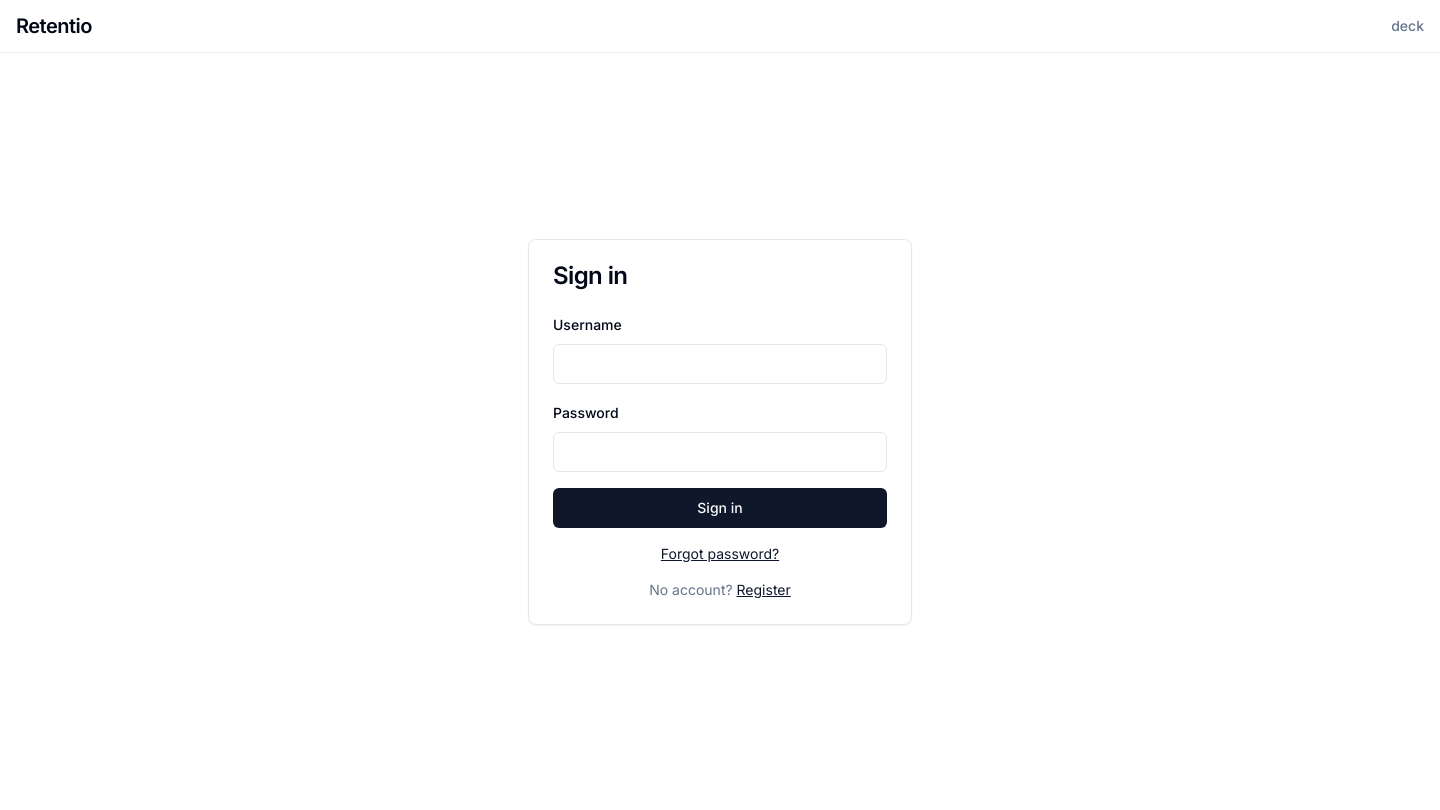
LoginPage › disables the button and shows loading text while submitting
Type "alice" into the field labelled "Username".
click(720, 364); type("alice")  # box [553, 344, 887, 384]
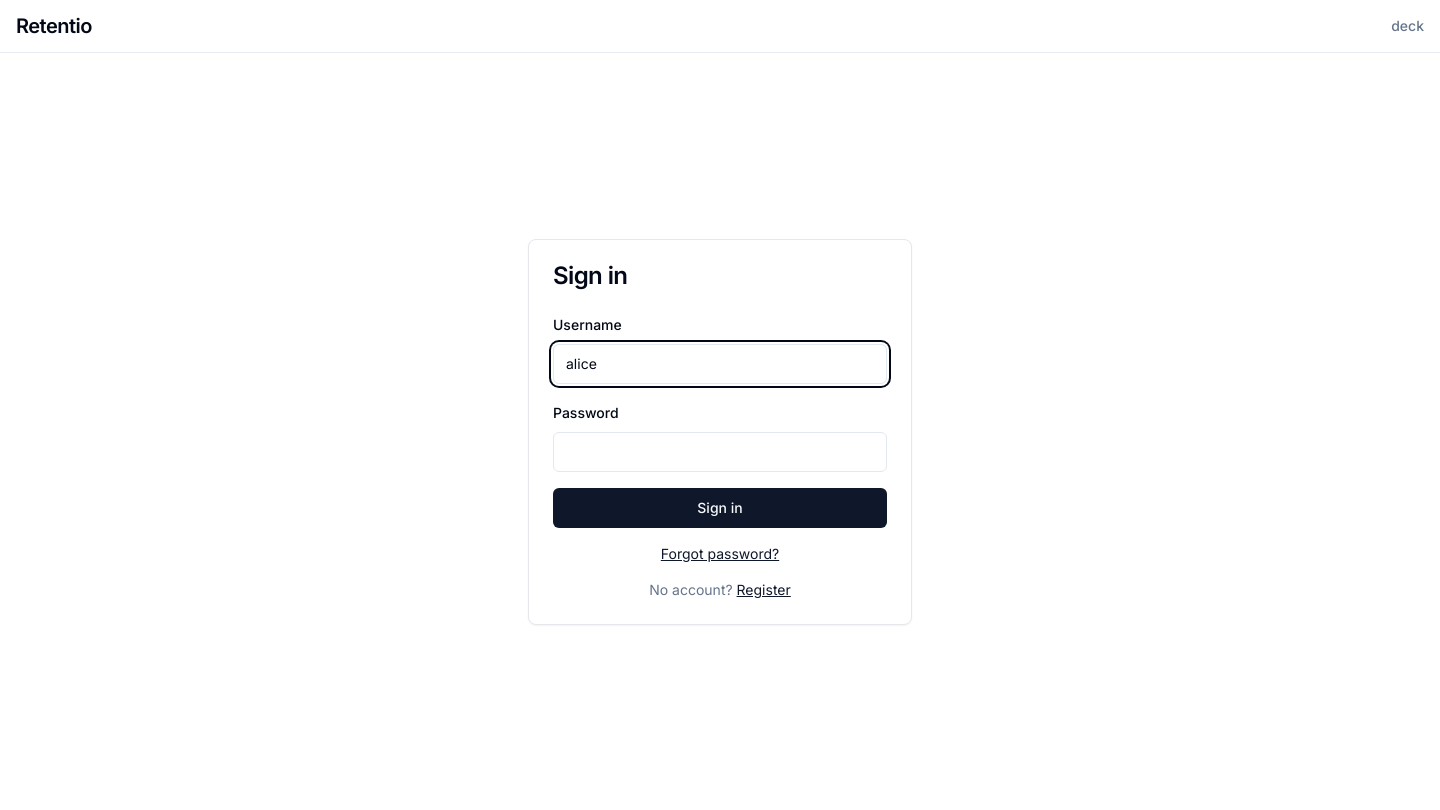
Type "secret" into the password field labelled "Password".
click(720, 452); type("secret")  # box [553, 432, 887, 472]
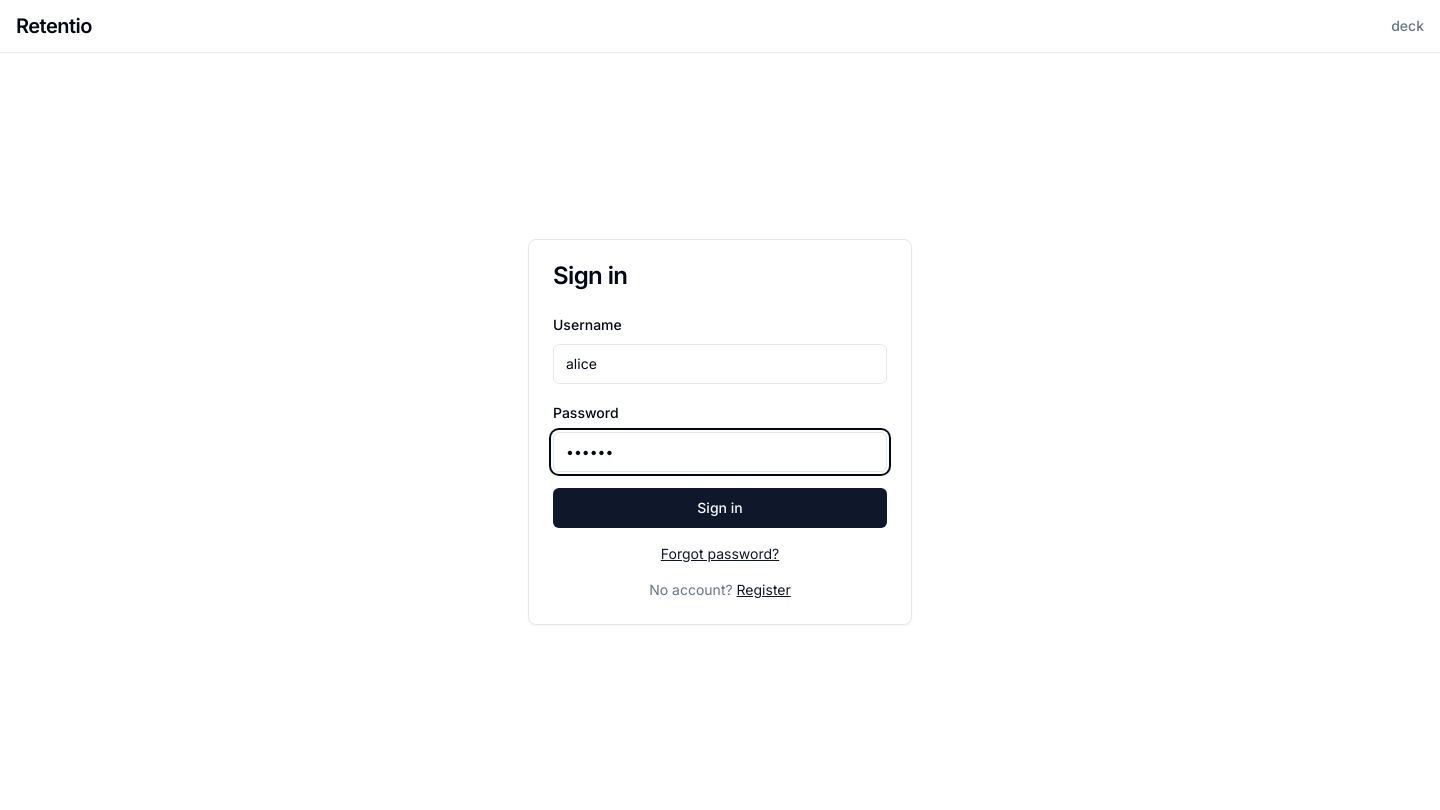
Click the button "Sign in".
click(720, 508)  # box [553, 488, 887, 528]
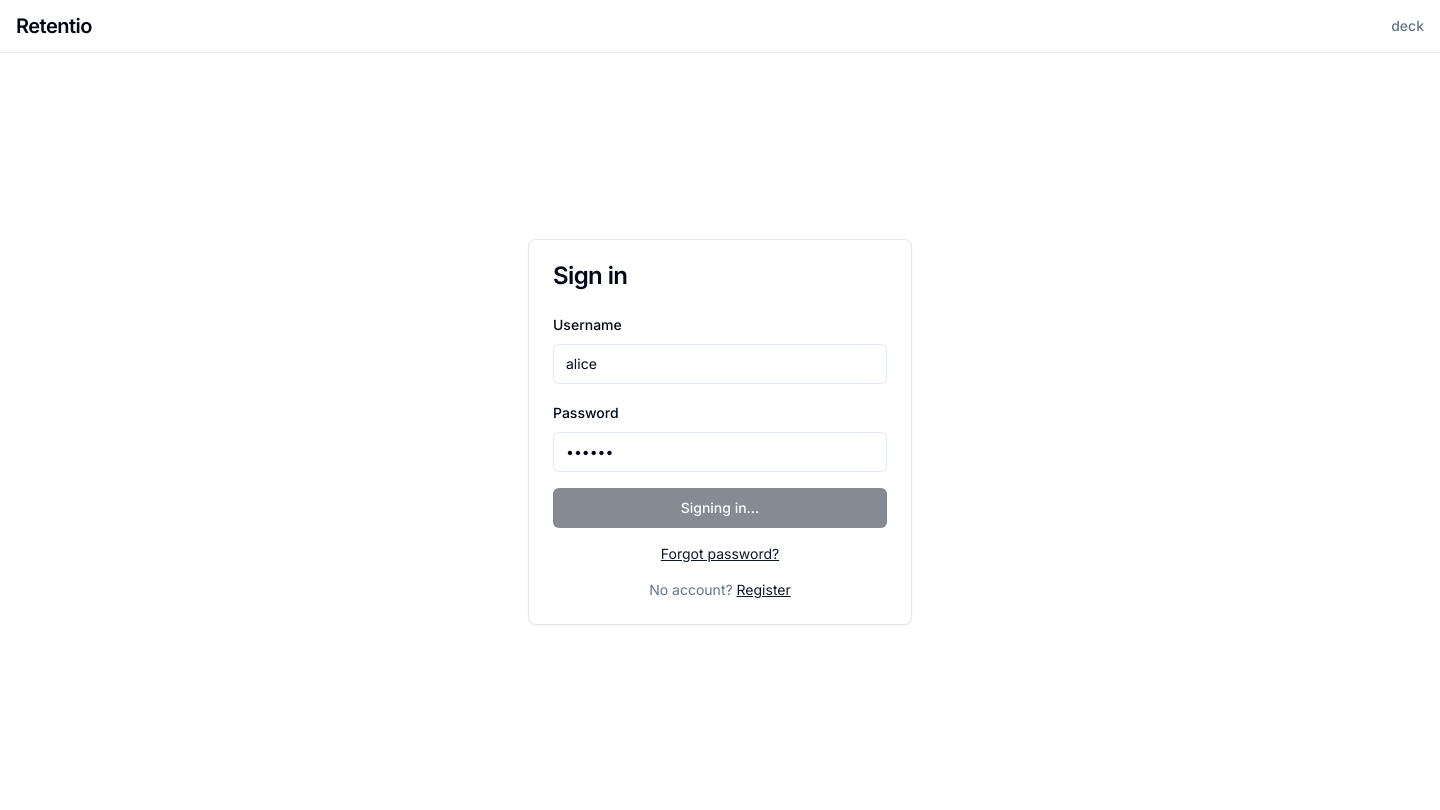
Check: the button "Signing in…" is disabled, box [553, 488, 887, 528]
